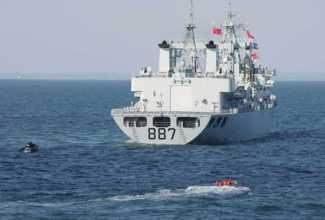warship: (109, 17, 279, 142)
